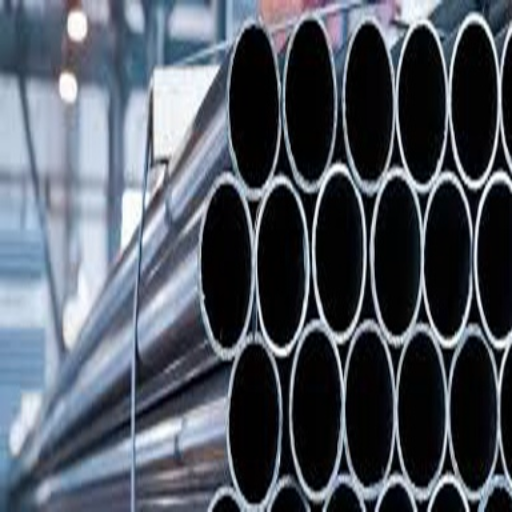Circle: (199, 176, 251, 346), (285, 12, 335, 183), (228, 21, 279, 182), (290, 325, 339, 490), (229, 340, 279, 500), (313, 169, 362, 330), (343, 21, 391, 180), (259, 183, 305, 346), (374, 170, 418, 336), (399, 330, 446, 484), (397, 25, 443, 180), (347, 327, 391, 486), (451, 19, 495, 176), (425, 182, 468, 335), (451, 339, 496, 483), (476, 176, 511, 333), (501, 33, 511, 154), (503, 348, 511, 464), (434, 480, 467, 507), (381, 481, 413, 506), (328, 483, 357, 507), (485, 484, 511, 508), (280, 483, 303, 508), (212, 491, 236, 507)
